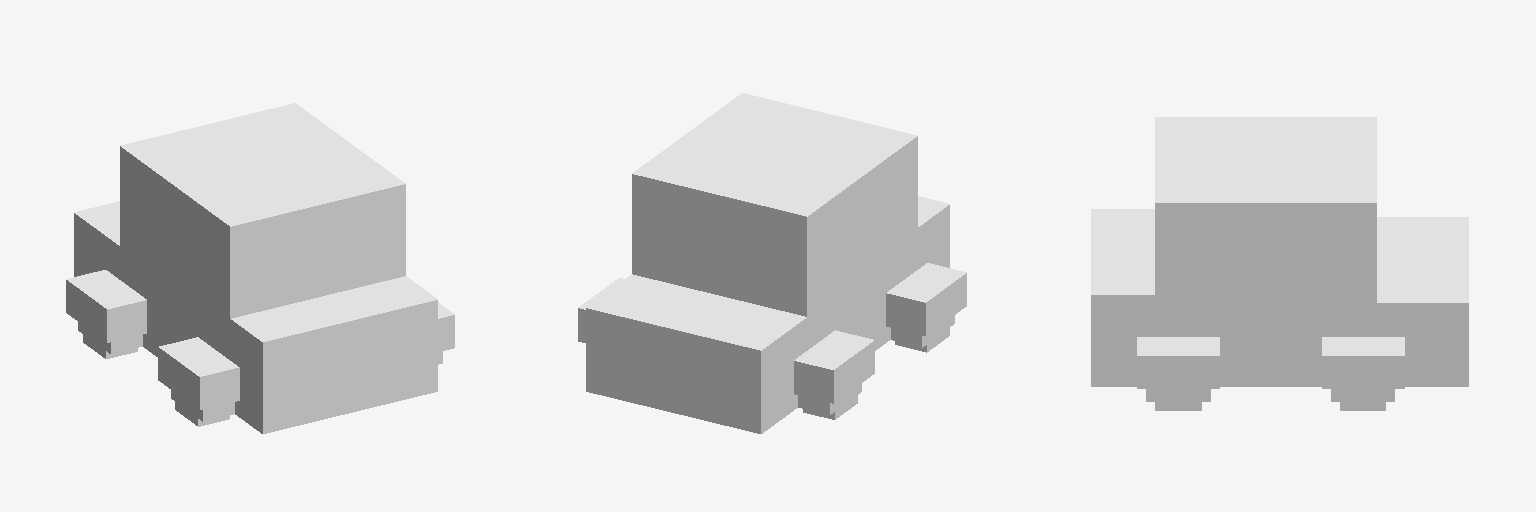
File: purpcar.obj
3 views of the same model, side by side, from view 1: azimuth 30°, elevation 25°; view 2: azimuth 150°, elevation 25°; view 3: azimuth 270°, elevation 25° (orthographic).
Parts seen in each view (by area): view 1: purpcar; view 2: purpcar; view 3: purpcar.
Boxes of the visible parts, x1,y1,x2,y2 form: purpcar: [66, 103, 454, 433]; purpcar: [578, 93, 966, 433]; purpcar: [1091, 117, 1468, 410].
Size of the model in its own units: 32 by 23 by 41.